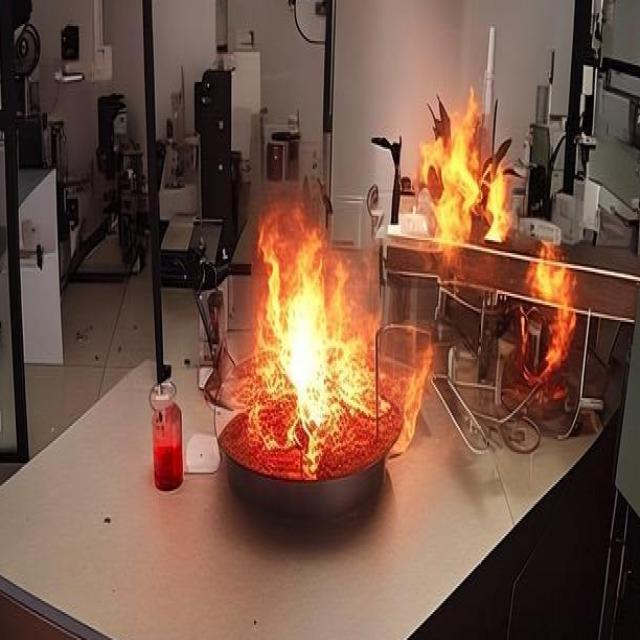smoke: (238, 210, 402, 477), (417, 80, 507, 283), (518, 244, 576, 398)
